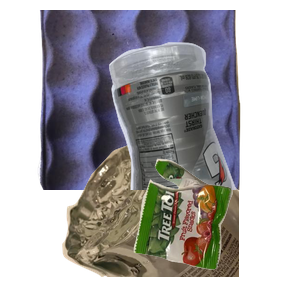glass: (60, 120, 300, 300)
paper: (35, 10, 268, 190)
plastic: (106, 40, 300, 220)
trash: (131, 156, 300, 300)
